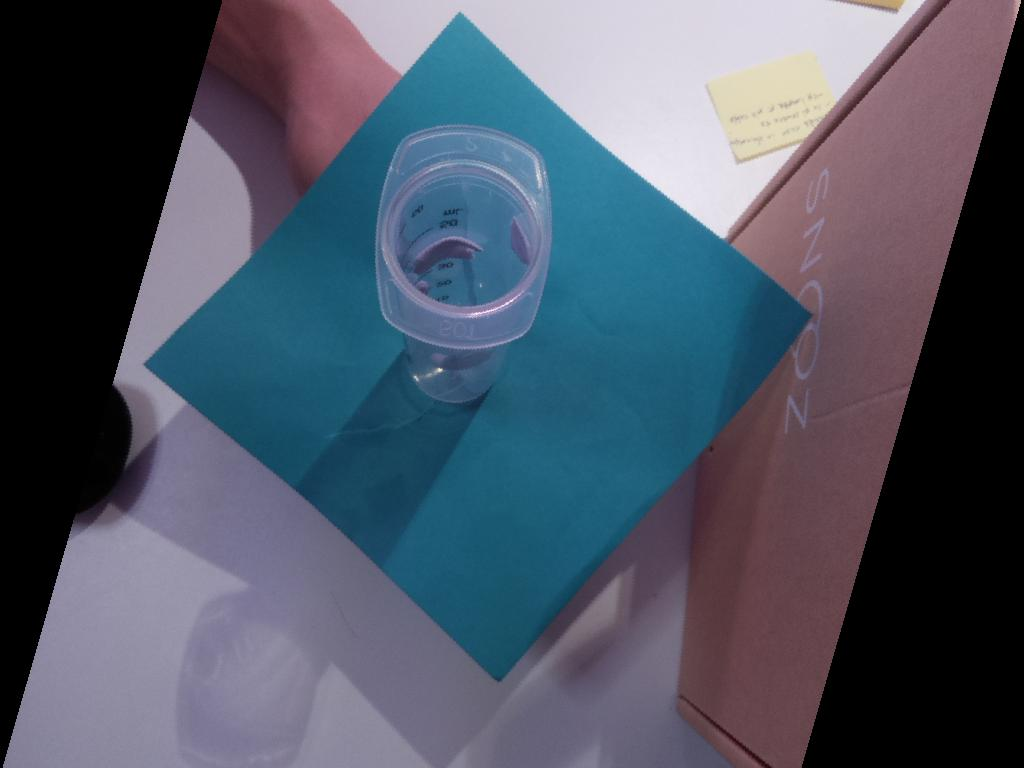dirty: (374, 123, 553, 350)
